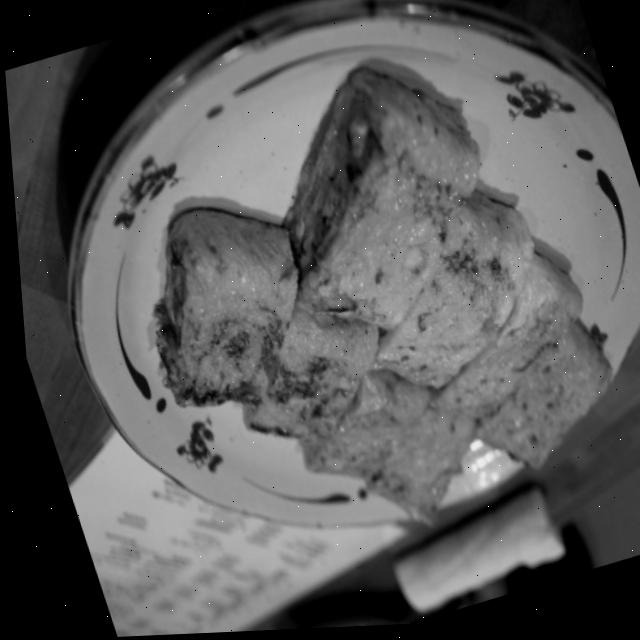鸡蛋料理: (4, 0, 640, 606)
